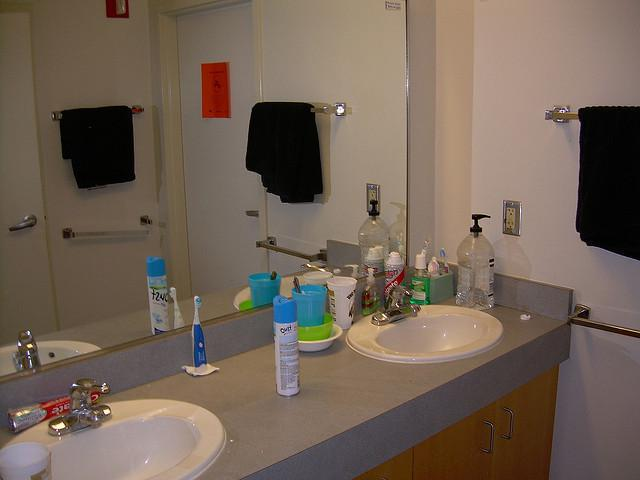Lavamanos: (0, 378, 225, 479), (350, 284, 508, 368)
